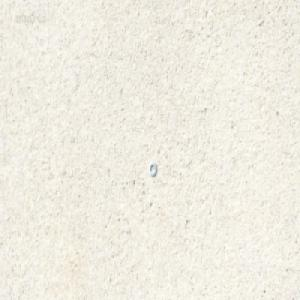Washer: (149, 162, 157, 177)
